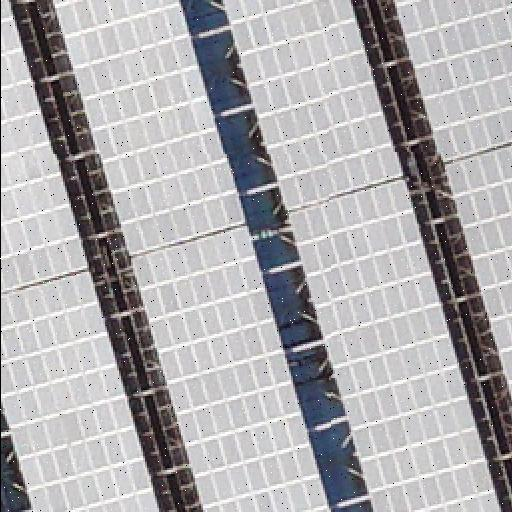solar-panel: (222, 0, 502, 512), (53, 0, 331, 512), (0, 0, 160, 512), (390, 0, 512, 396)
